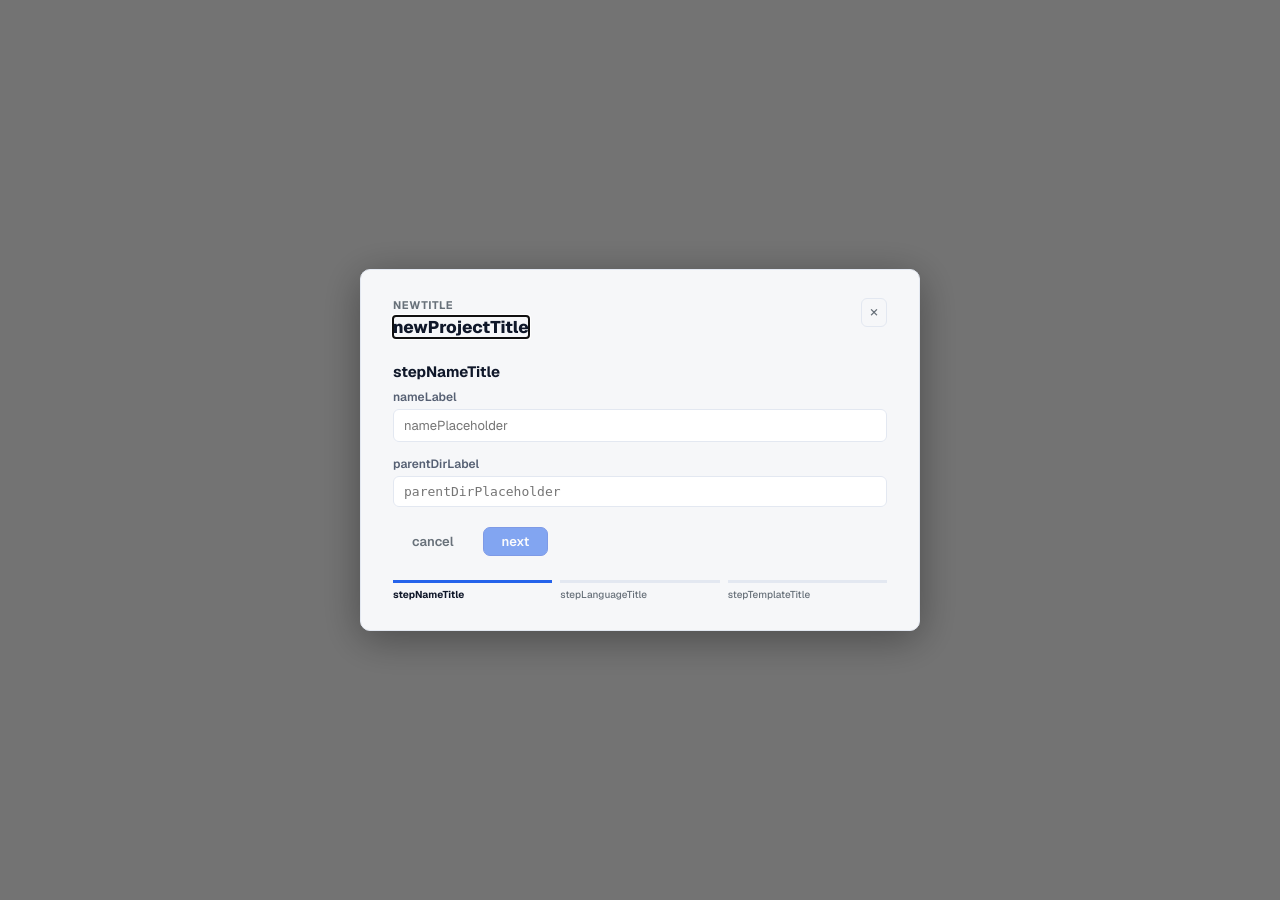
Test case: NewProjectWizard — step 1 gating › clicking Next with both fields filled advances to step 2
This screenshot has width=1280, height=900.
In the field with test id "np-name": (640, 426) [393, 409, 887, 442], type "My Vault"
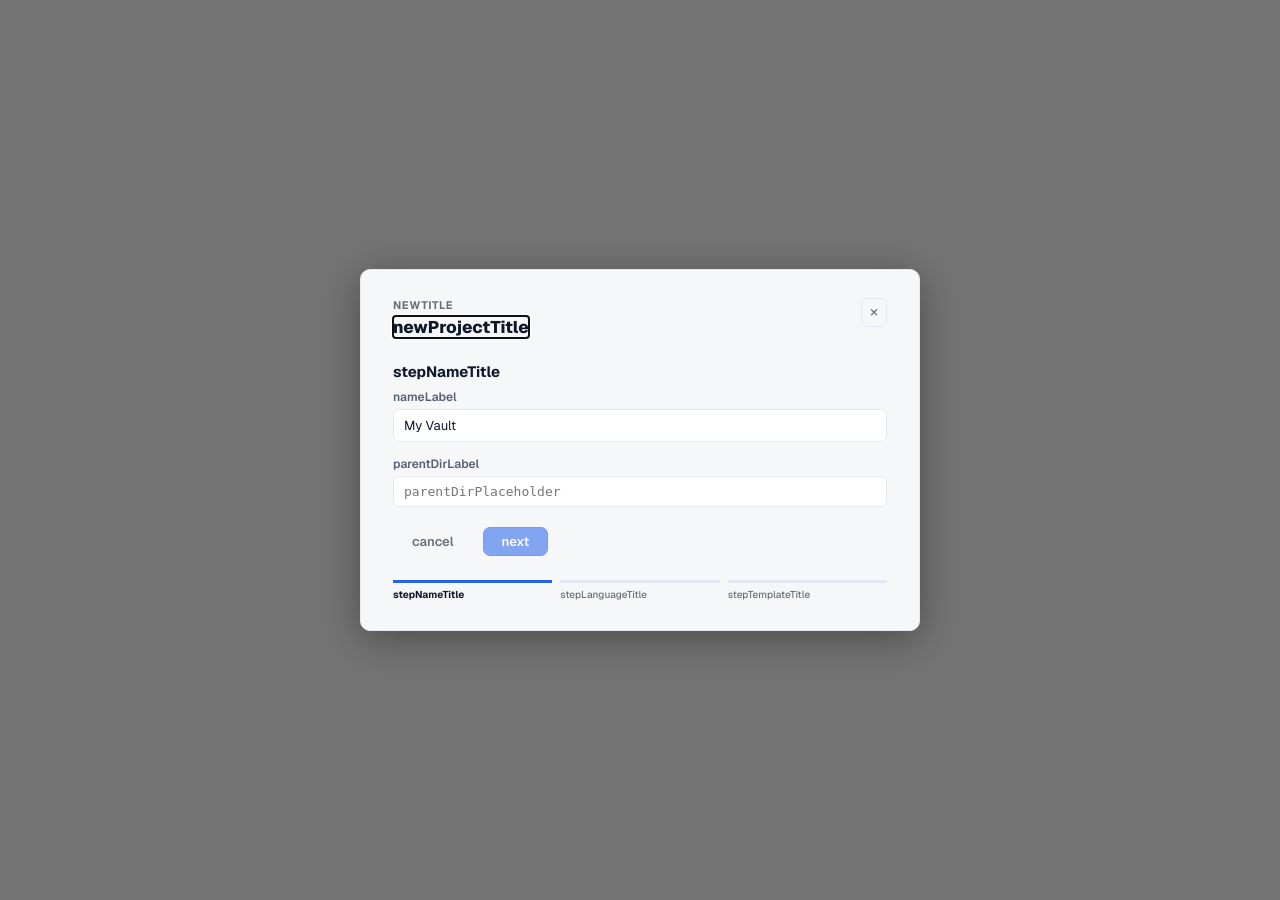
In the field with test id "np-parent-dir": (640, 492) [393, 476, 887, 507], type "/data/vaults"
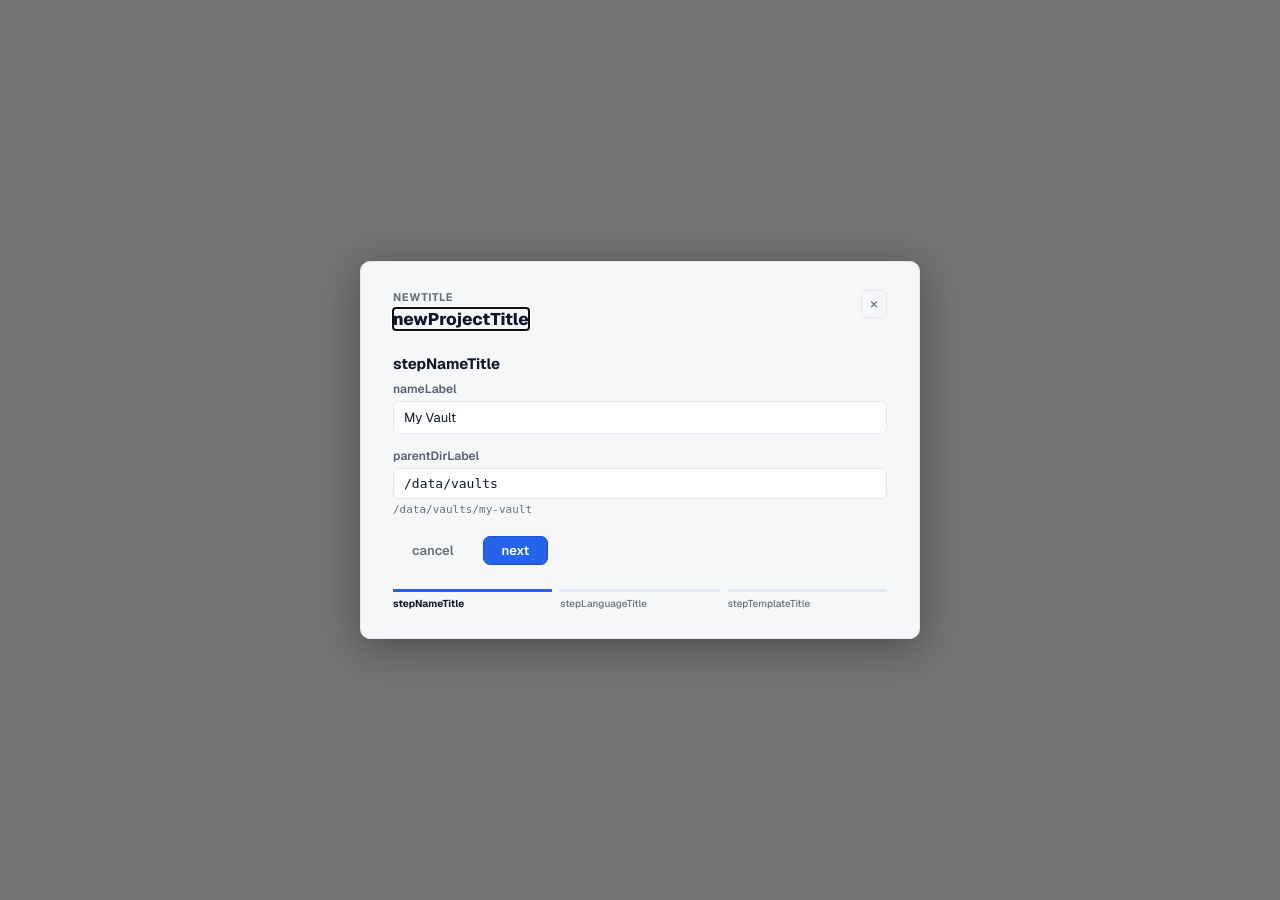
Click the button with test id "np-next": (515, 550) [483, 536, 548, 565]
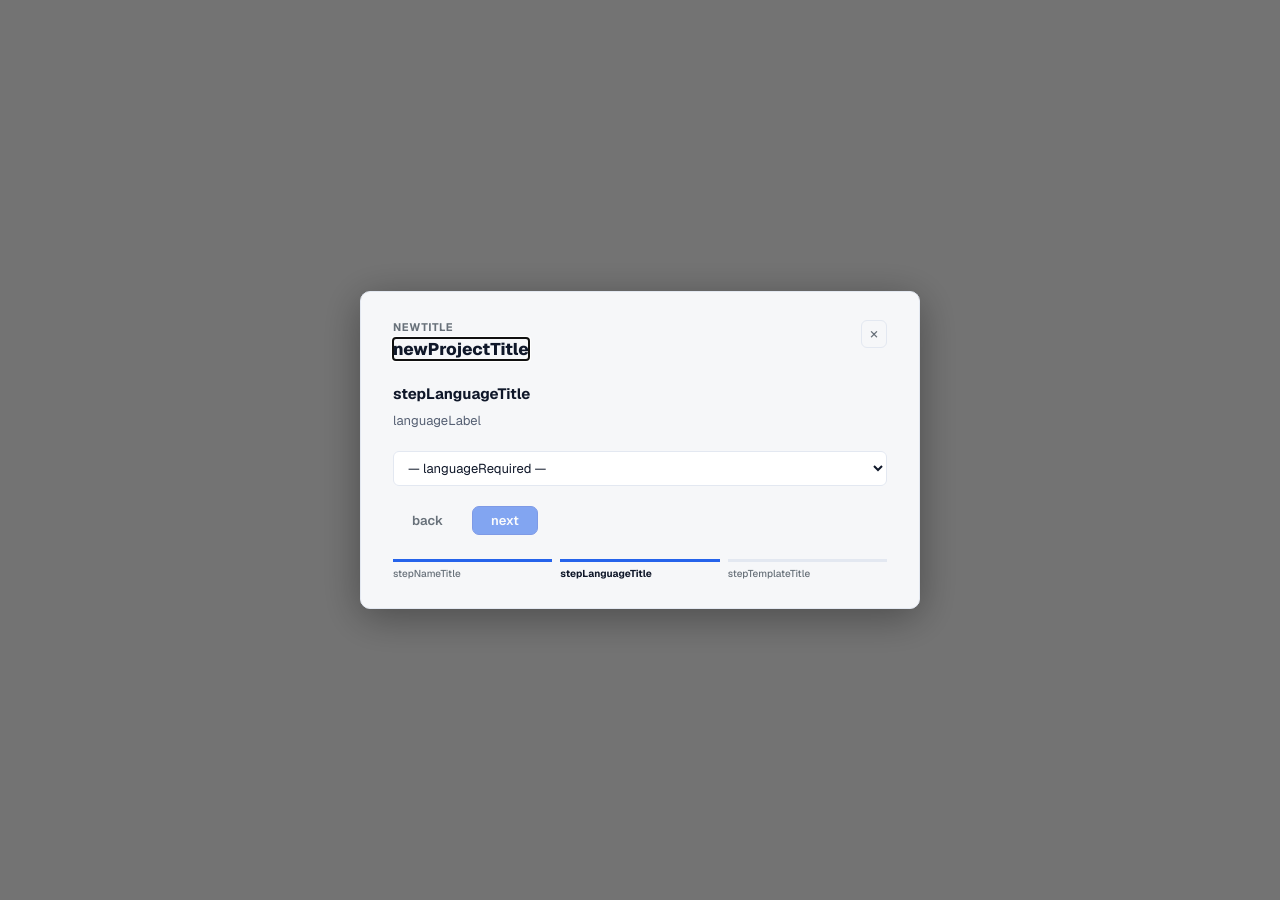
Now the label with test id "np-name" is gone
Now the dropdown with test id "np-language" is shown, box [393, 450, 887, 486]
